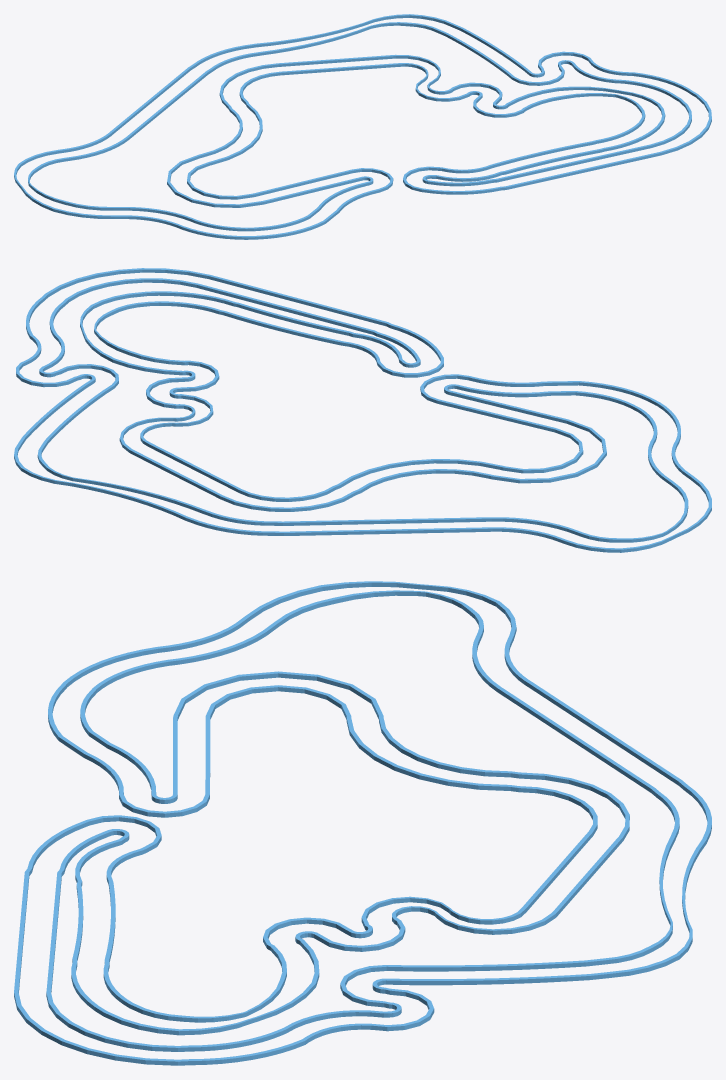
Rendered from AIWalls.fbx.
The picture shows the model from 3 angles, top to bottom: view 1: azimuth 30°, elevation 25°; view 2: azimuth 150°, elevation 25°; view 3: azimuth 270°, elevation 25°; orthographic projection. The views are drawn at different scales.
Parts seen in each view (by area): view 1: Plane.101; view 2: Plane.101; view 3: Plane.101.
Boxes of the visible parts, x1,y1,x2,y2 form: Plane.101: (14,14,711,239); Plane.101: (14,268,711,552); Plane.101: (14,581,711,1065).
Bounding box in the file's own units: 6143 × 25 × 3772.
